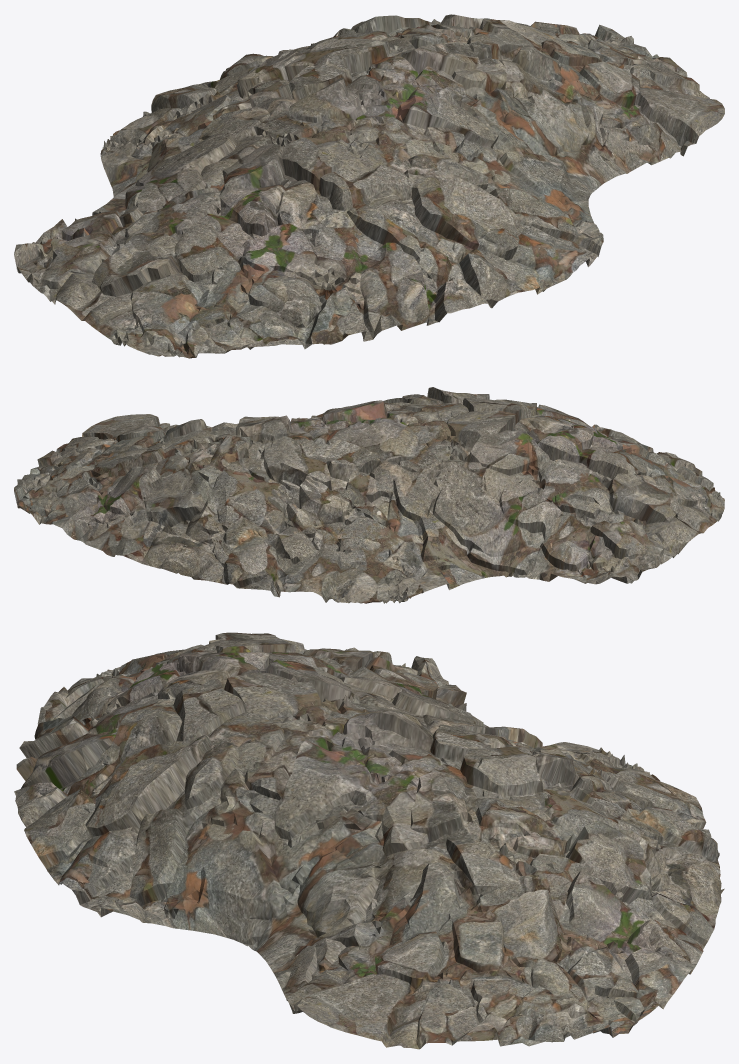
The model's file is Rocks_v1.fbx.
3 renders of one model, top to bottom at view 1: azimuth 30°, elevation 25°; view 2: azimuth 150°, elevation 25°; view 3: azimuth 270°, elevation 25°, orthographic. The views are drawn at different scales.
Visible parts, largest first — view 1: Rocks_LOD0; view 2: Rocks_LOD0; view 3: Rocks_LOD0.
Part boxes in pixels (bbox=[...]): Rocks_LOD0: bbox=[14, 14, 724, 358]; Rocks_LOD0: bbox=[14, 387, 724, 603]; Rocks_LOD0: bbox=[14, 632, 724, 1049].
Size of what is drawn, in the model's own units: 376 by 59.63 by 285.
